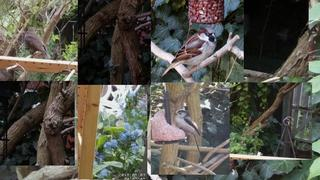long tailed tit: (174, 109, 203, 165)
sparrow: (160, 27, 217, 78)
starling: (24, 27, 51, 60)
